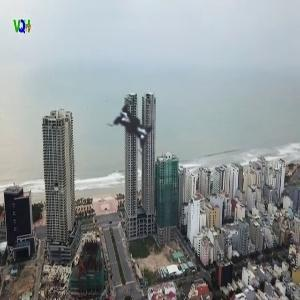drone: (77, 75, 187, 185)
